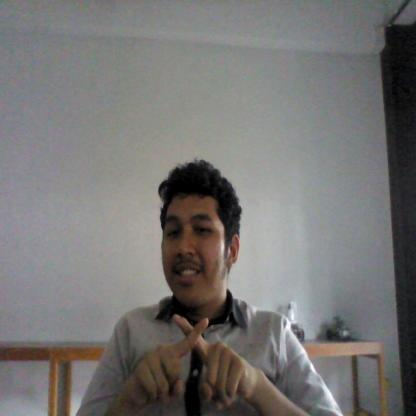X: (127, 312, 256, 410)
